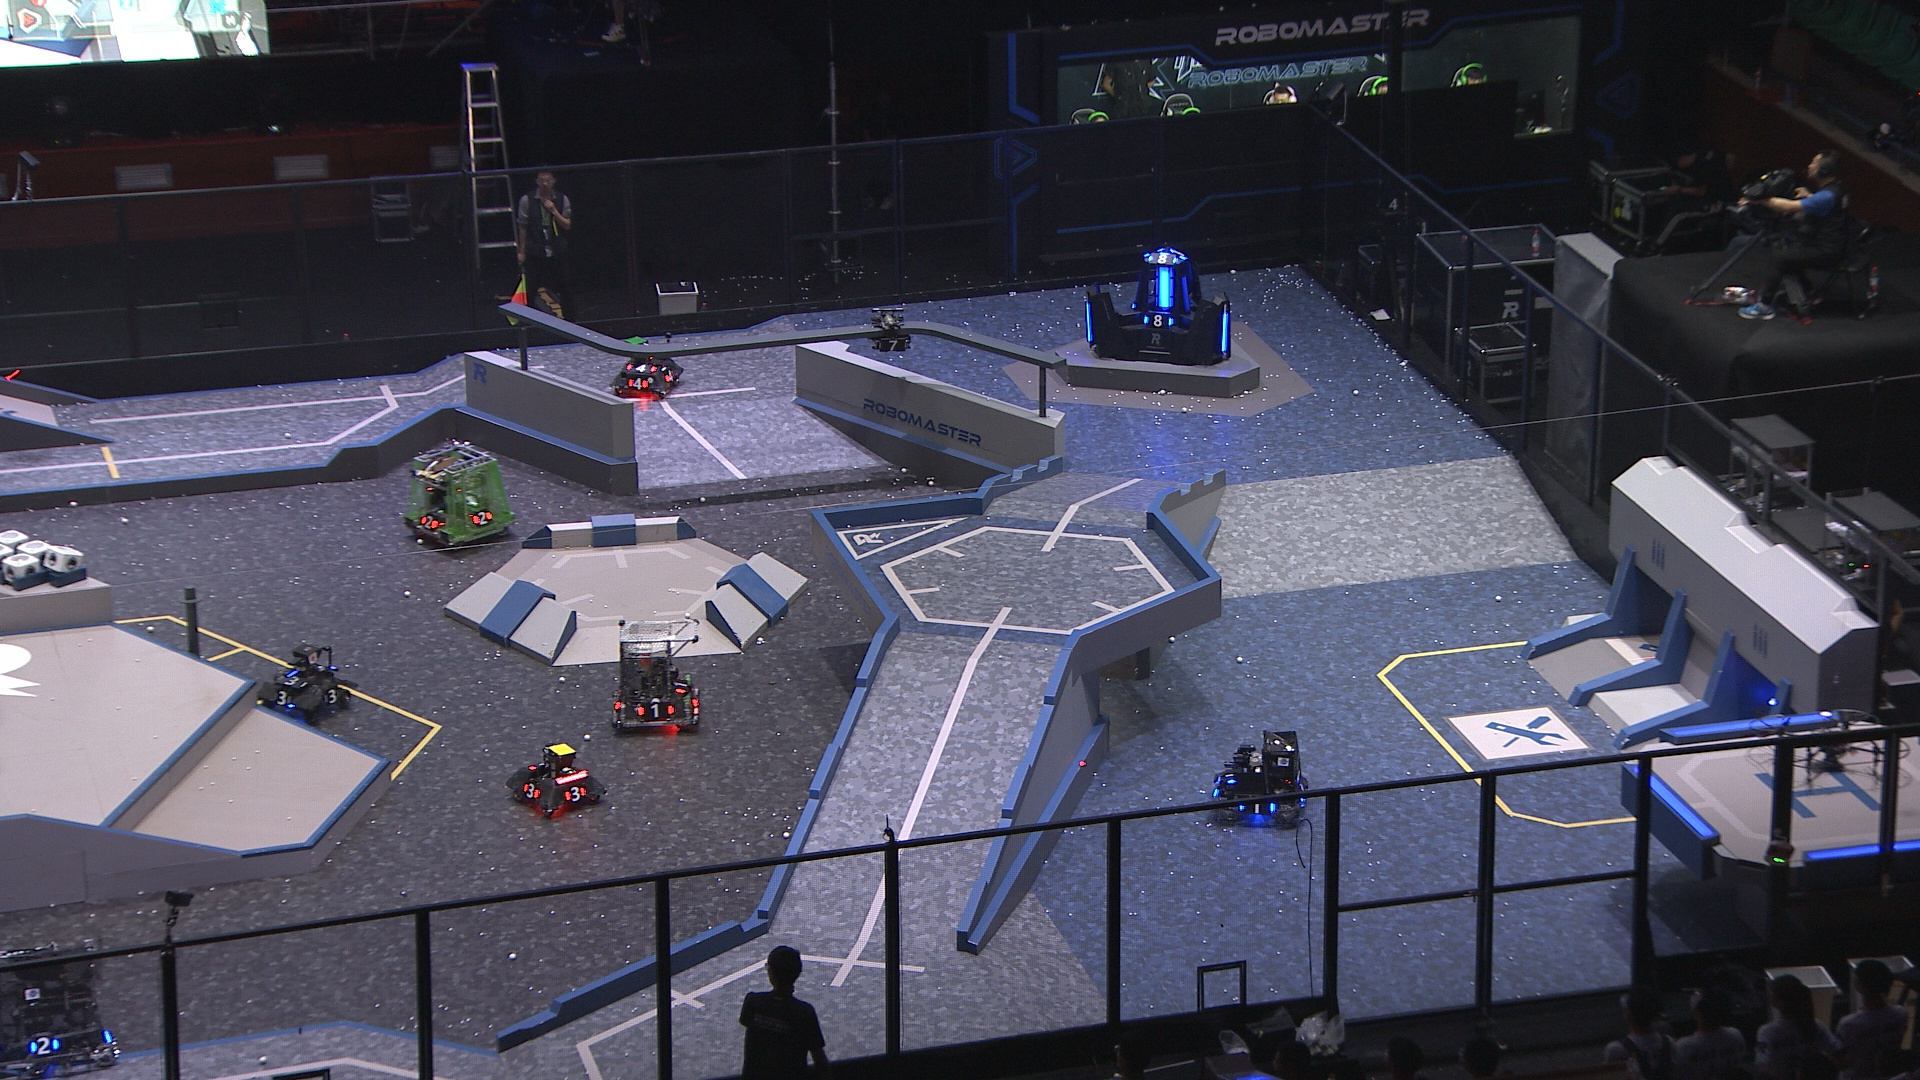armor: (1156, 266, 1174, 311), (29, 1035, 62, 1058), (1237, 800, 1276, 818), (636, 702, 674, 717), (277, 671, 310, 688), (562, 783, 588, 804), (1220, 310, 1232, 353), (877, 338, 909, 353), (1147, 252, 1179, 266), (1143, 314, 1174, 328), (1179, 276, 1191, 313), (1083, 301, 1093, 342), (469, 509, 495, 526), (417, 513, 439, 531), (624, 363, 657, 375), (520, 782, 541, 799), (320, 687, 340, 704), (272, 690, 291, 707), (626, 376, 647, 392), (674, 675, 688, 695), (662, 368, 676, 384)
base: (1083, 247, 1234, 365)
car: (404, 436, 518, 553), (611, 616, 707, 732), (1209, 727, 1313, 829), (252, 640, 353, 727), (508, 738, 604, 820), (612, 335, 684, 400)
watcher: (866, 305, 913, 356)
